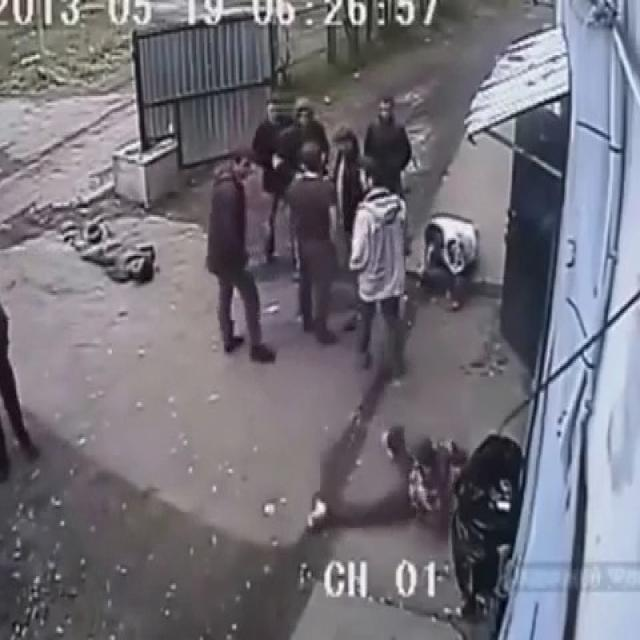fight: (211, 138, 335, 368), (292, 127, 363, 346)
